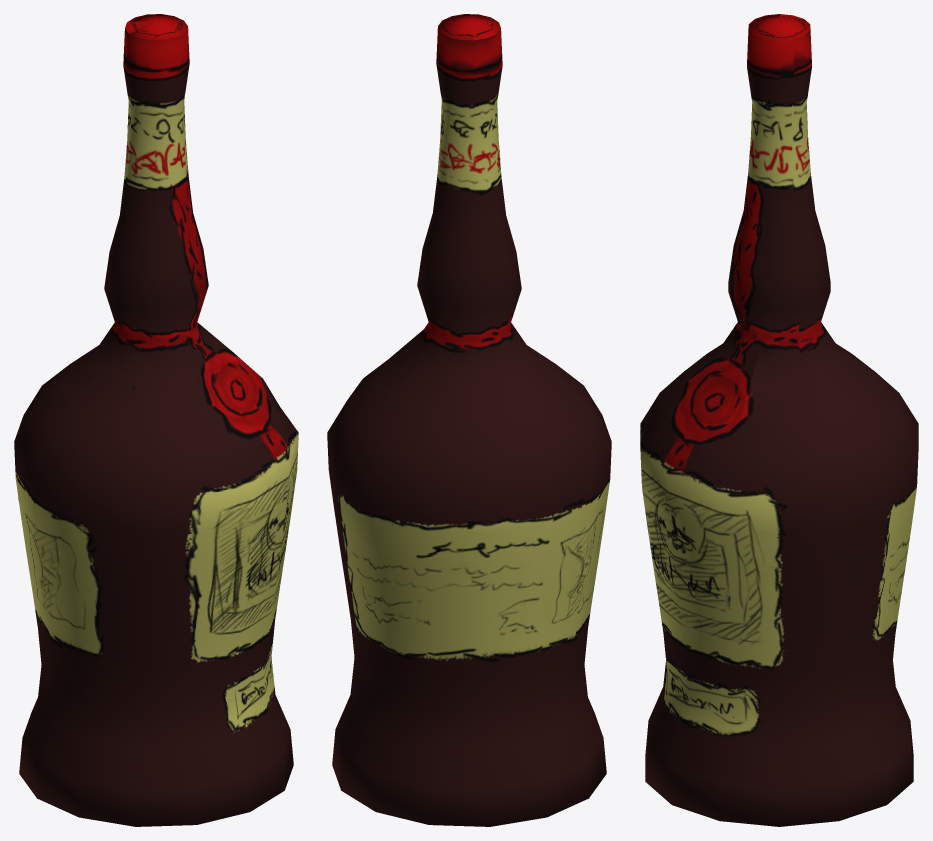
Rendered from finvin.fbx.
3 renders of one model, left to right at view 1: azimuth 30°, elevation 25°; view 2: azimuth 150°, elevation 25°; view 3: azimuth 270°, elevation 25°, orthographic.
Parts seen in each view (by area): view 1: pasted__nurbsToPoly1; view 2: pasted__nurbsToPoly1; view 3: pasted__nurbsToPoly1.
Part boxes in pixels (x1,y1,x2,y2): pasted__nurbsToPoly1: [14, 14, 298, 826]; pasted__nurbsToPoly1: [327, 14, 611, 826]; pasted__nurbsToPoly1: [640, 14, 918, 826].
Bounding box in the file's own units: 0.2532 × 0.7422 × 0.2467.
